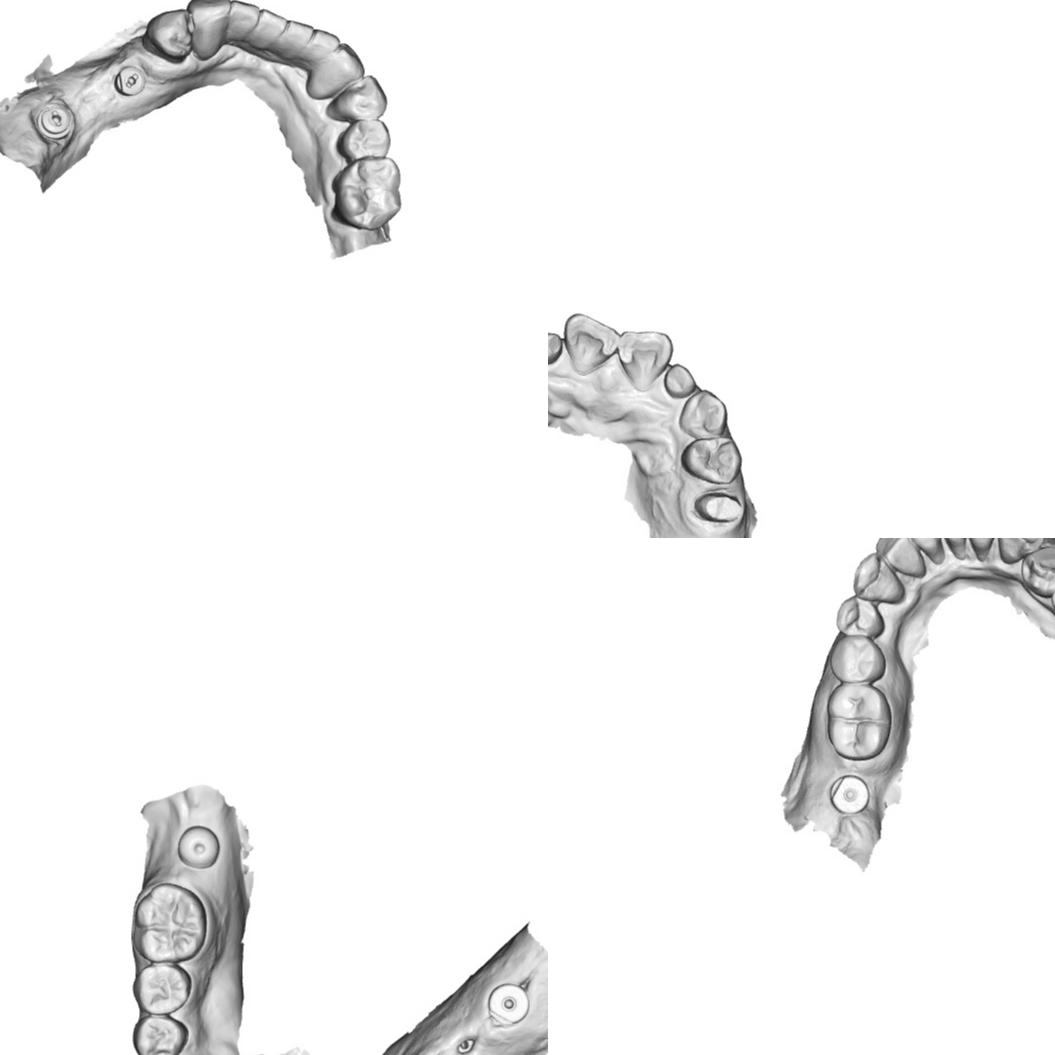canine: (850, 551, 906, 604), (184, 0, 232, 60), (678, 388, 729, 439), (314, 41, 365, 90), (995, 538, 1044, 565)
crown: (692, 490, 744, 525)
implant: (176, 824, 221, 870), (486, 982, 531, 1027), (827, 772, 870, 814)
implant_minus: (36, 102, 74, 142), (114, 64, 146, 98)
incisor: (560, 312, 620, 375), (618, 329, 674, 392), (873, 538, 929, 580), (247, 8, 288, 50), (224, 0, 262, 42), (276, 19, 314, 59), (307, 28, 341, 66), (663, 362, 696, 400), (899, 538, 944, 565), (927, 538, 966, 569), (961, 538, 1000, 560), (548, 331, 562, 365)
molar: (132, 881, 208, 964), (330, 156, 403, 230), (825, 682, 892, 762)
premolar: (132, 960, 192, 1016), (679, 436, 743, 484), (331, 74, 388, 122), (830, 633, 883, 684), (144, 8, 192, 62), (336, 116, 392, 160), (131, 1013, 189, 1055), (836, 596, 886, 640), (1018, 543, 1055, 597)
